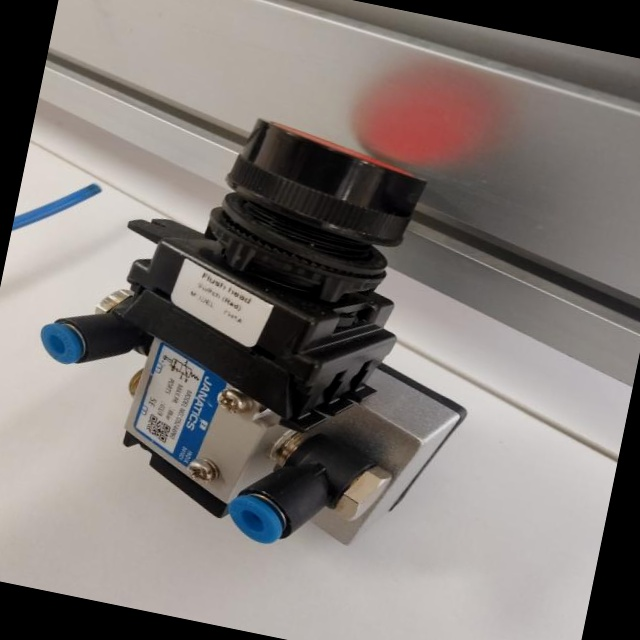push button: (8, 82, 517, 578)
